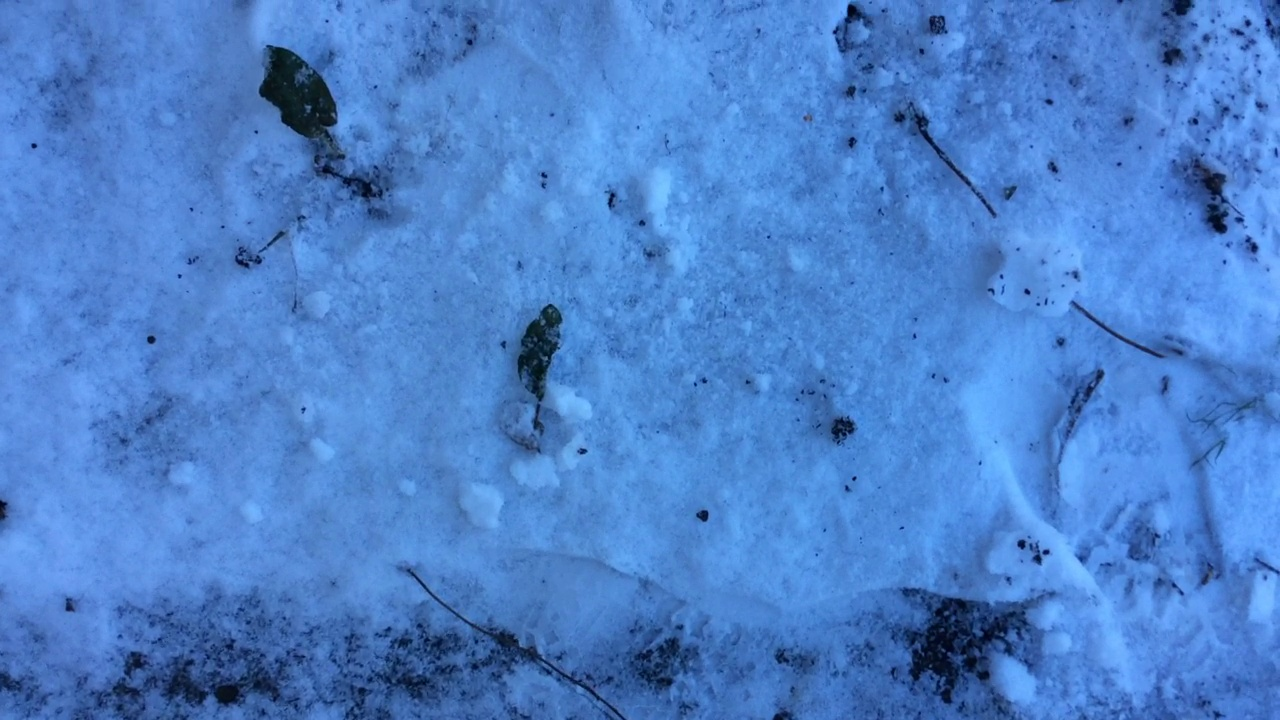root: (308, 157, 355, 189), (518, 418, 550, 455)
rumex: (255, 40, 353, 186), (504, 301, 575, 461)
